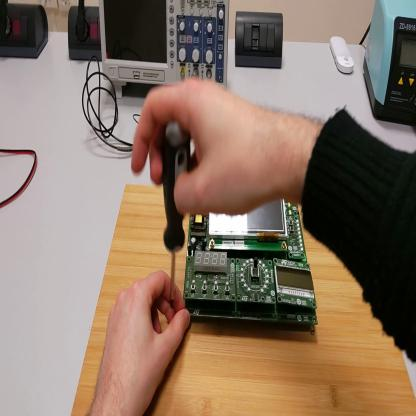hand: (132, 78, 281, 219), (98, 271, 191, 413)
low voltage board: (184, 204, 319, 332)
oscilloscope: (100, 1, 230, 98)
screwdriver-: (163, 119, 192, 307)
socket: (1, 2, 51, 60), (69, 6, 102, 61)
welder station: (366, 2, 416, 128)
working area: (72, 183, 416, 416)
